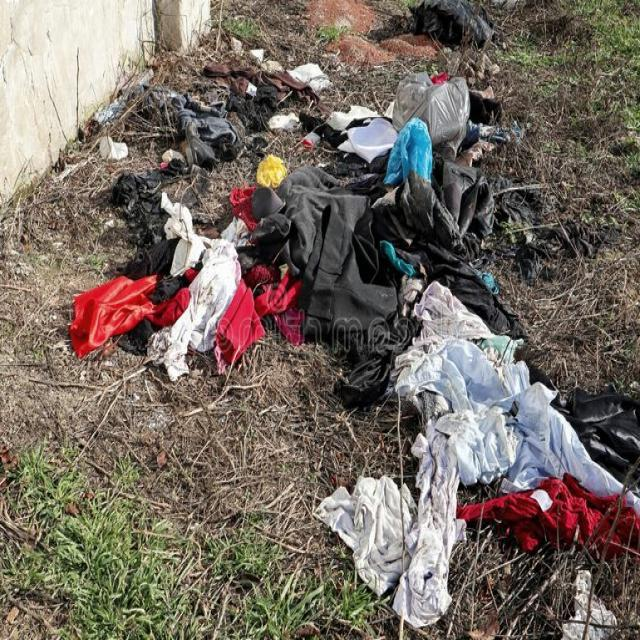clothes: (154, 188, 530, 371)
